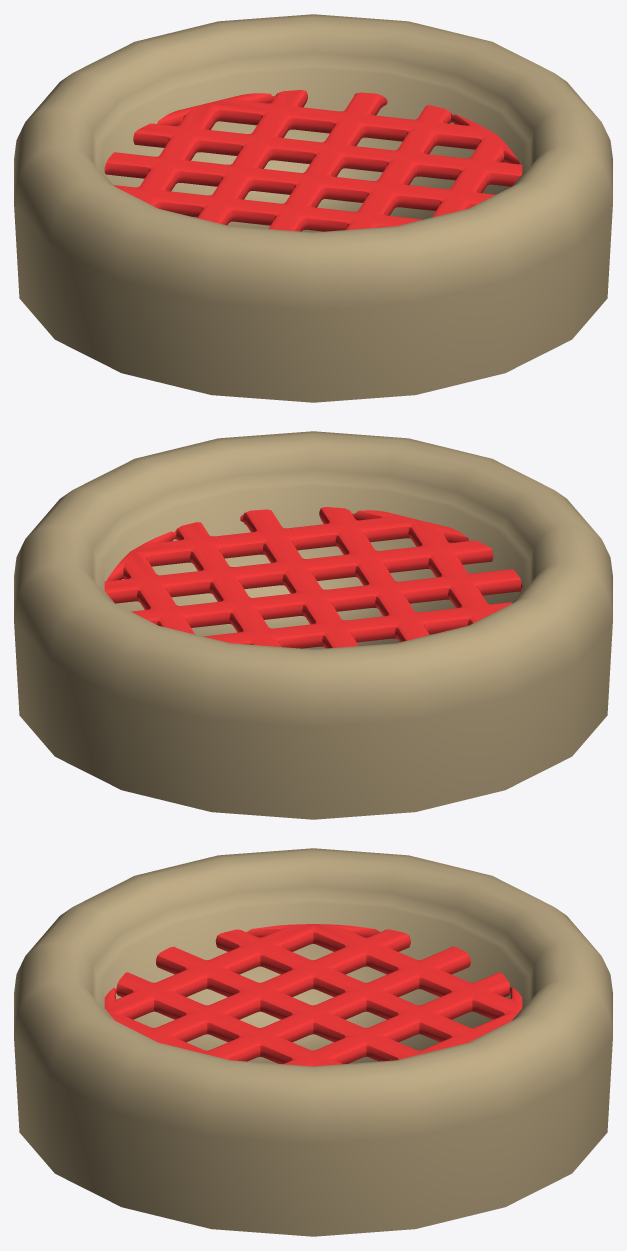
Rendered from RespiraderoRedondoMallaGorda.fbx.
The picture shows the model from 3 angles, top to bottom: view 1: azimuth 30°, elevation 25°; view 2: azimuth 150°, elevation 25°; view 3: azimuth 270°, elevation 25°; orthographic projection.
Parts seen in each view (by area): view 1: RespiraderoRedondoMallaGorda; view 2: RespiraderoRedondoMallaGorda; view 3: RespiraderoRedondoMallaGorda.
Part boxes in pixels (left/top/right/bottom): RespiraderoRedondoMallaGorda: left=14, top=14, right=612, bottom=402; RespiraderoRedondoMallaGorda: left=14, top=431, right=612, bottom=819; RespiraderoRedondoMallaGorda: left=14, top=848, right=612, bottom=1236.
Size of the model in its own units: 3.02 by 0.8117 by 2.97.
